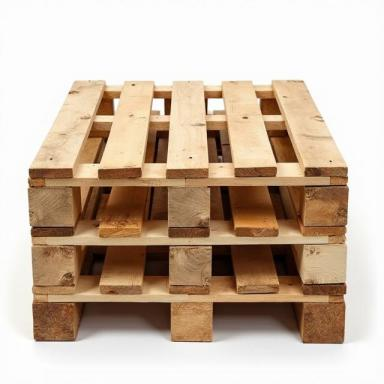pallet: (27, 80, 349, 228), (30, 226, 348, 287), (32, 284, 347, 343)
